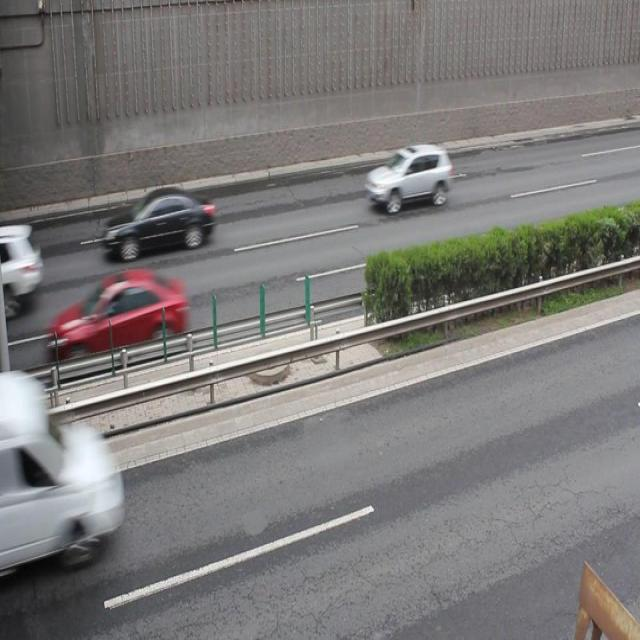car: (55, 271, 187, 357), (103, 189, 214, 257), (367, 146, 451, 213)
truck: (0, 377, 119, 572)
